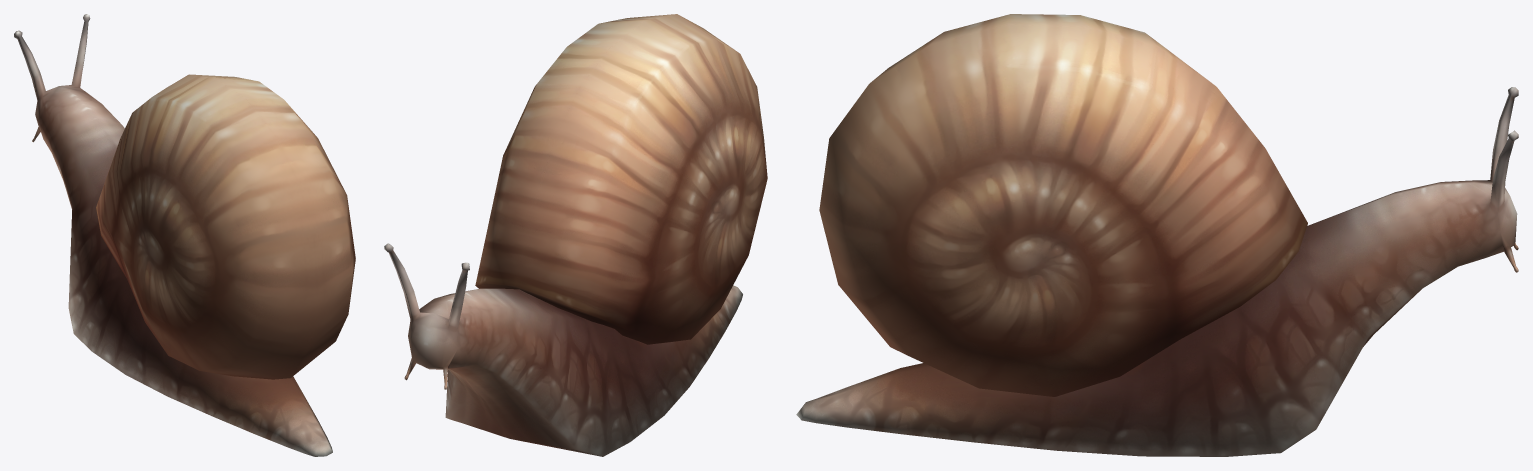
Rendered from Snail.fbx.
3 renders of one model, left to right at view 1: azimuth 30°, elevation 25°; view 2: azimuth 150°, elevation 25°; view 3: azimuth 270°, elevation 25°, orthographic. The views are drawn at different scales.
Parts seen in each view (by area): view 1: Snail; view 2: Snail; view 3: Snail.
Boxes of the visible parts, bbox=[...] form: Snail: bbox=[14, 14, 355, 456]; Snail: bbox=[384, 14, 767, 456]; Snail: bbox=[796, 14, 1518, 456].
Size of the model in its own units: 4.36 by 7.17 by 12.
1 material, 1 textured.
